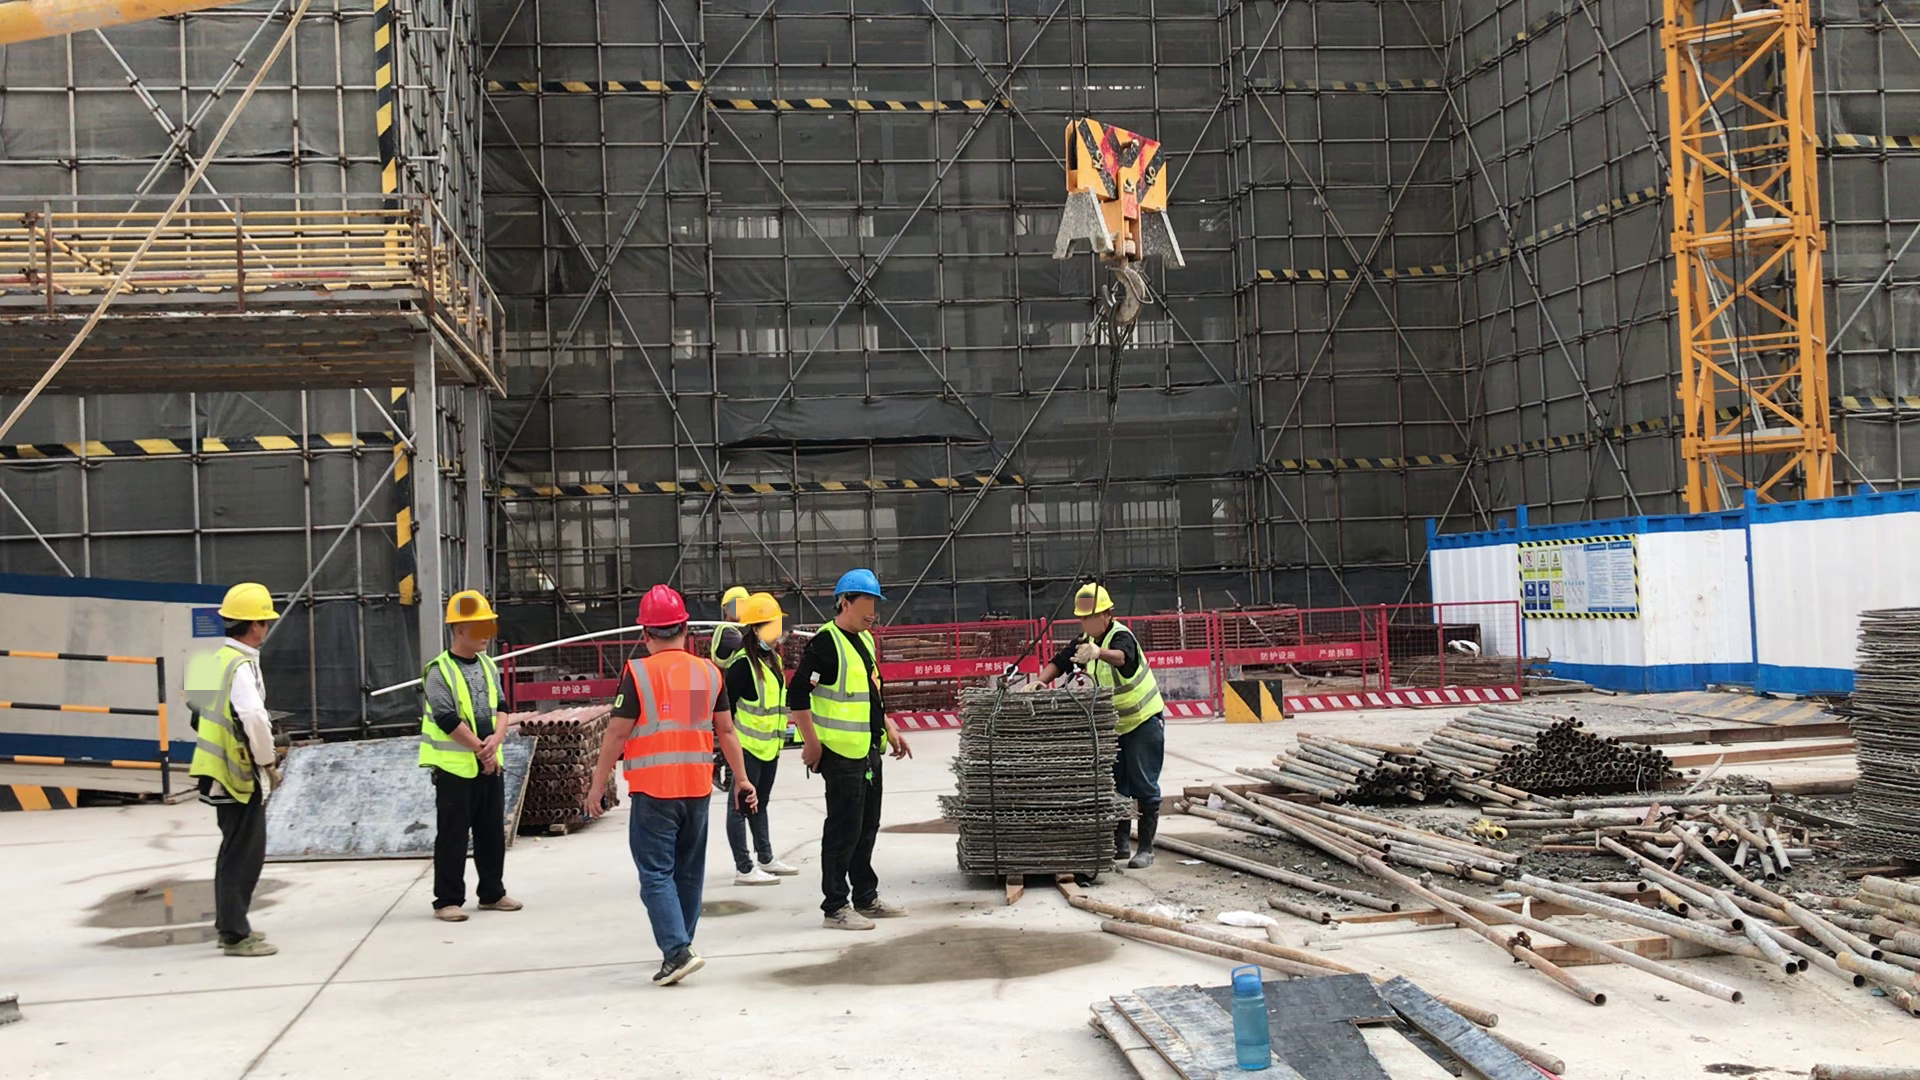fence: (1289, 601, 1529, 713), (1, 640, 169, 795), (896, 615, 959, 728), (1165, 609, 1218, 719)
helmet: (213, 581, 280, 624), (632, 587, 691, 630), (443, 591, 501, 629), (831, 568, 886, 603), (1072, 582, 1113, 622), (745, 598, 788, 626), (720, 586, 749, 607)
hook: (1047, 119, 1191, 330)
person: (584, 582, 758, 989), (786, 566, 915, 932), (177, 578, 289, 964), (414, 588, 528, 923), (732, 594, 806, 889), (1008, 581, 1158, 693), (709, 586, 745, 659)
scaffold: (1462, 705, 1693, 806), (1237, 730, 1459, 816), (534, 705, 615, 838)
slogan: (1526, 541, 1634, 616)
vest: (618, 654, 723, 802), (185, 650, 266, 809), (806, 622, 888, 763), (423, 650, 508, 777), (1075, 628, 1168, 734), (738, 649, 790, 761)
